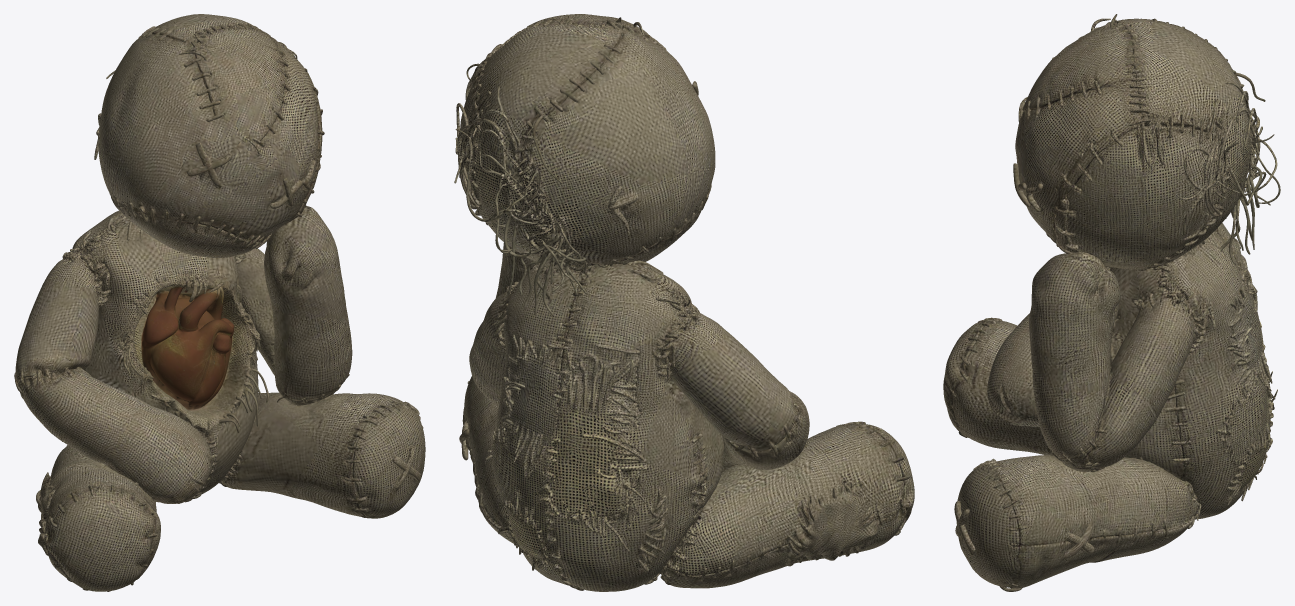
The model's file is doll.glb.
3 renders of one model, left to right at view 1: azimuth 30°, elevation 25°; view 2: azimuth 150°, elevation 25°; view 3: azimuth 270°, elevation 25°, orthographic. The views are drawn at different scales.
Size of the model in its own units: 0.1018 by 0.12 by 0.0735.
1 material, 1 textured.
